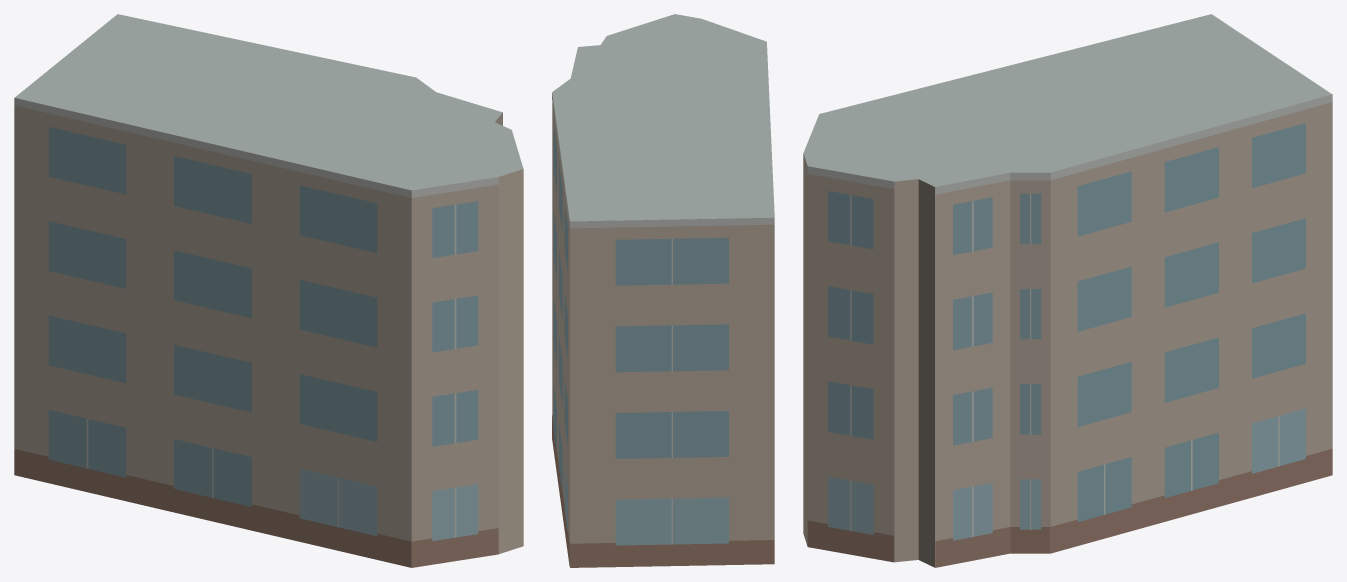
Rendered from survey-upis-32688136.glb.
3 renders of one model, left to right at view 1: azimuth 30°, elevation 25°; view 2: azimuth 150°, elevation 25°; view 3: azimuth 270°, elevation 25°, orthographic. The views are drawn at different scales.
Parts seen in each view (by area): view 1: survey-upis-32688136.tmp; view 2: survey-upis-32688136.tmp; view 3: survey-upis-32688136.tmp.
Part boxes in pixels (bbox=[...]): survey-upis-32688136.tmp: bbox=[14, 14, 523, 567]; survey-upis-32688136.tmp: bbox=[552, 14, 774, 567]; survey-upis-32688136.tmp: bbox=[803, 14, 1332, 567].
Size of the model in its own units: 11.9 by 12.2 by 15.37.
